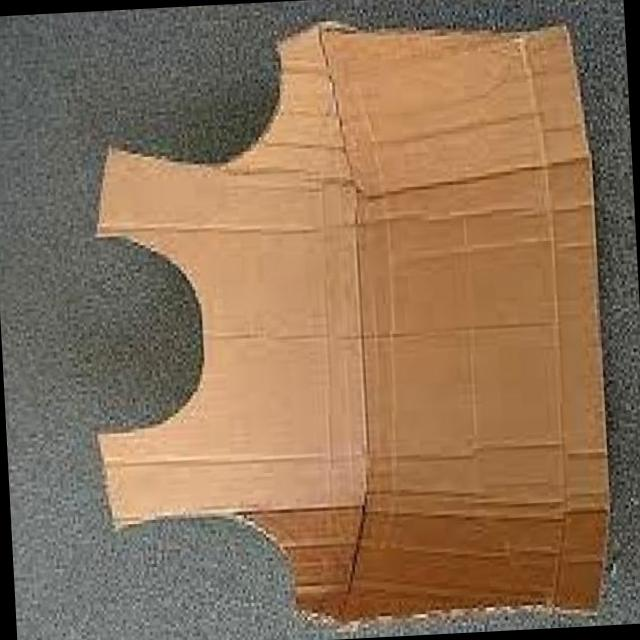cardboard paper: (96, 29, 605, 620)
